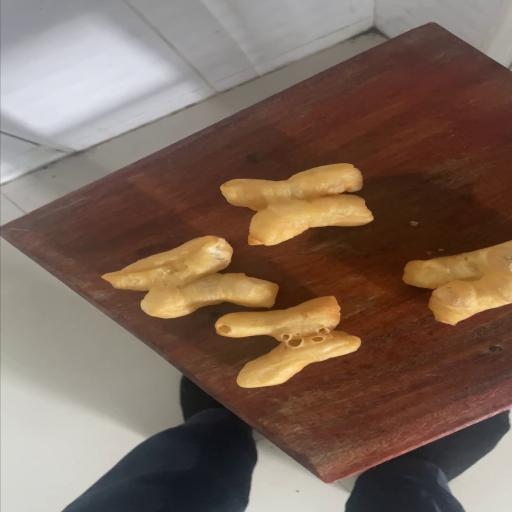street_golden_defect: (211, 299, 361, 386)
street_golden_good: (220, 164, 373, 245)
